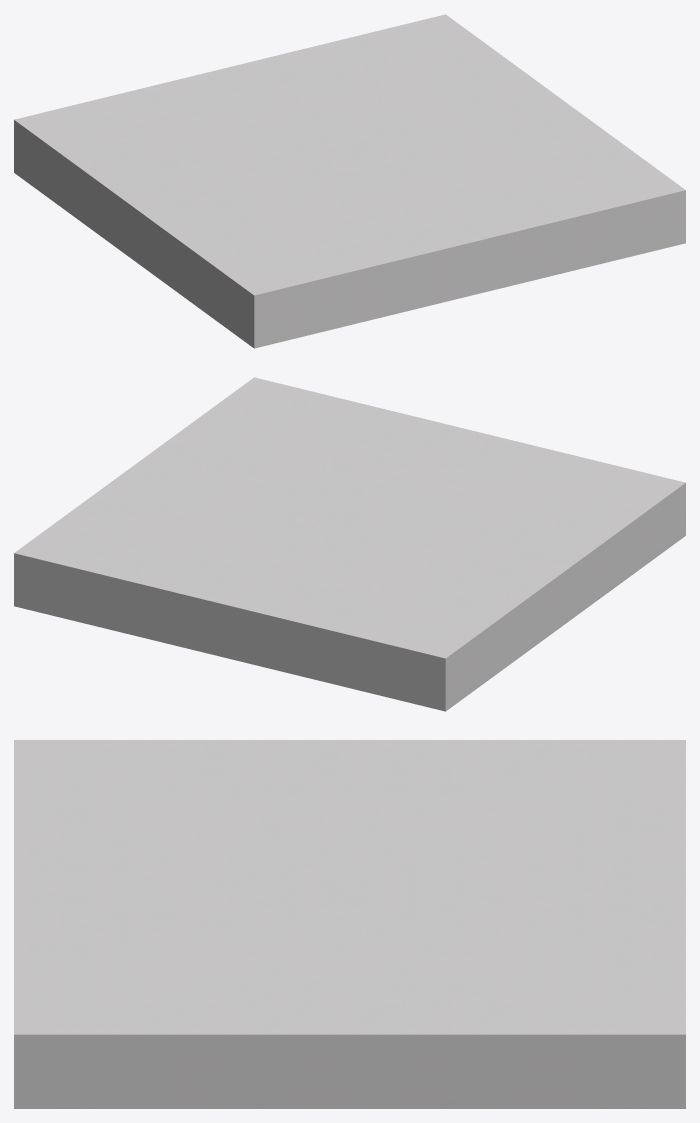
File: SM_Ceiling_4.fbx
The picture shows the model from 3 angles, top to bottom: view 1: azimuth 30°, elevation 25°; view 2: azimuth 150°, elevation 25°; view 3: azimuth 270°, elevation 25°; orthographic projection. The views are drawn at different scales.
Visible parts, largest first — view 1: SM_Ceiling_4; view 2: SM_Ceiling_4; view 3: SM_Ceiling_4.
Part boxes in pixels (x1,y1,x2,y2): SM_Ceiling_4: (14, 14, 685, 348); SM_Ceiling_4: (14, 377, 685, 711); SM_Ceiling_4: (14, 740, 685, 1108).
Bounding box in the file's own units: 1294 × 1247 × 152.
